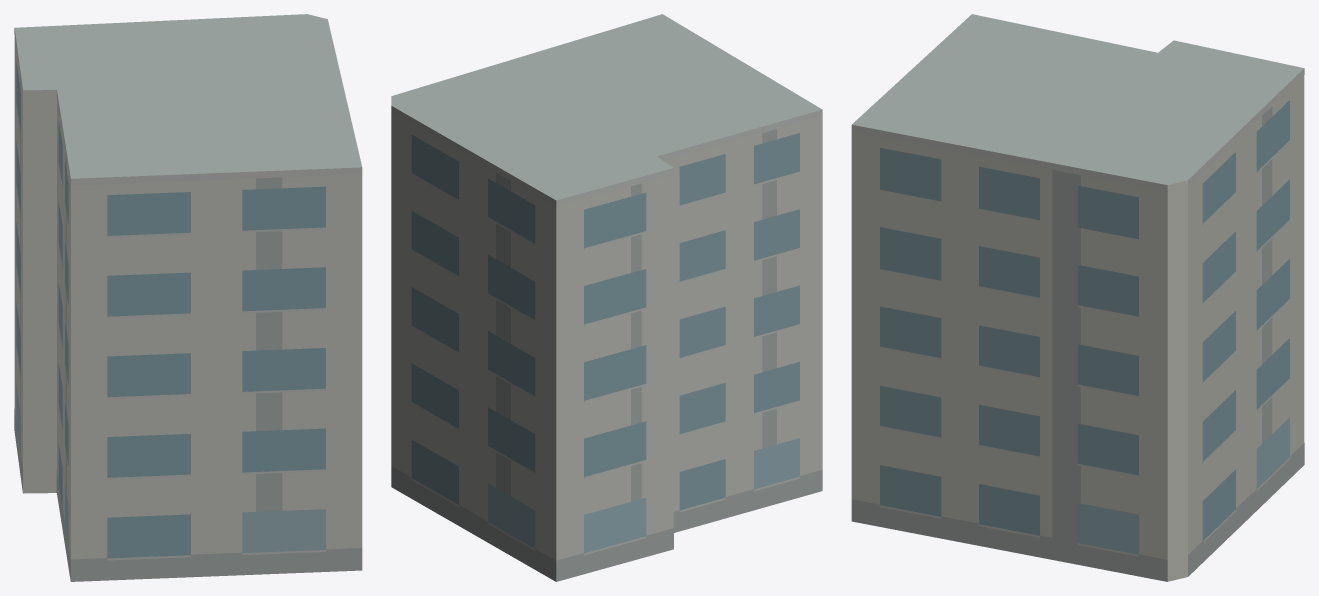
The model's file is survey-upis-32842028.glb.
The picture shows the model from 3 angles, left to right: view 1: azimuth 30°, elevation 25°; view 2: azimuth 150°, elevation 25°; view 3: azimuth 270°, elevation 25°; orthographic projection. The views are drawn at different scales.
Parts seen in each view (by area): view 1: survey-upis-32842028.tmp; view 2: survey-upis-32842028.tmp; view 3: survey-upis-32842028.tmp.
Part boxes in pixels (x1,y1,x2,y2): survey-upis-32842028.tmp: (14, 14, 362, 581); survey-upis-32842028.tmp: (391, 14, 822, 581); survey-upis-32842028.tmp: (851, 14, 1304, 581).
Bounding box in the file's own units: 13.19 × 14.25 × 14.75.
